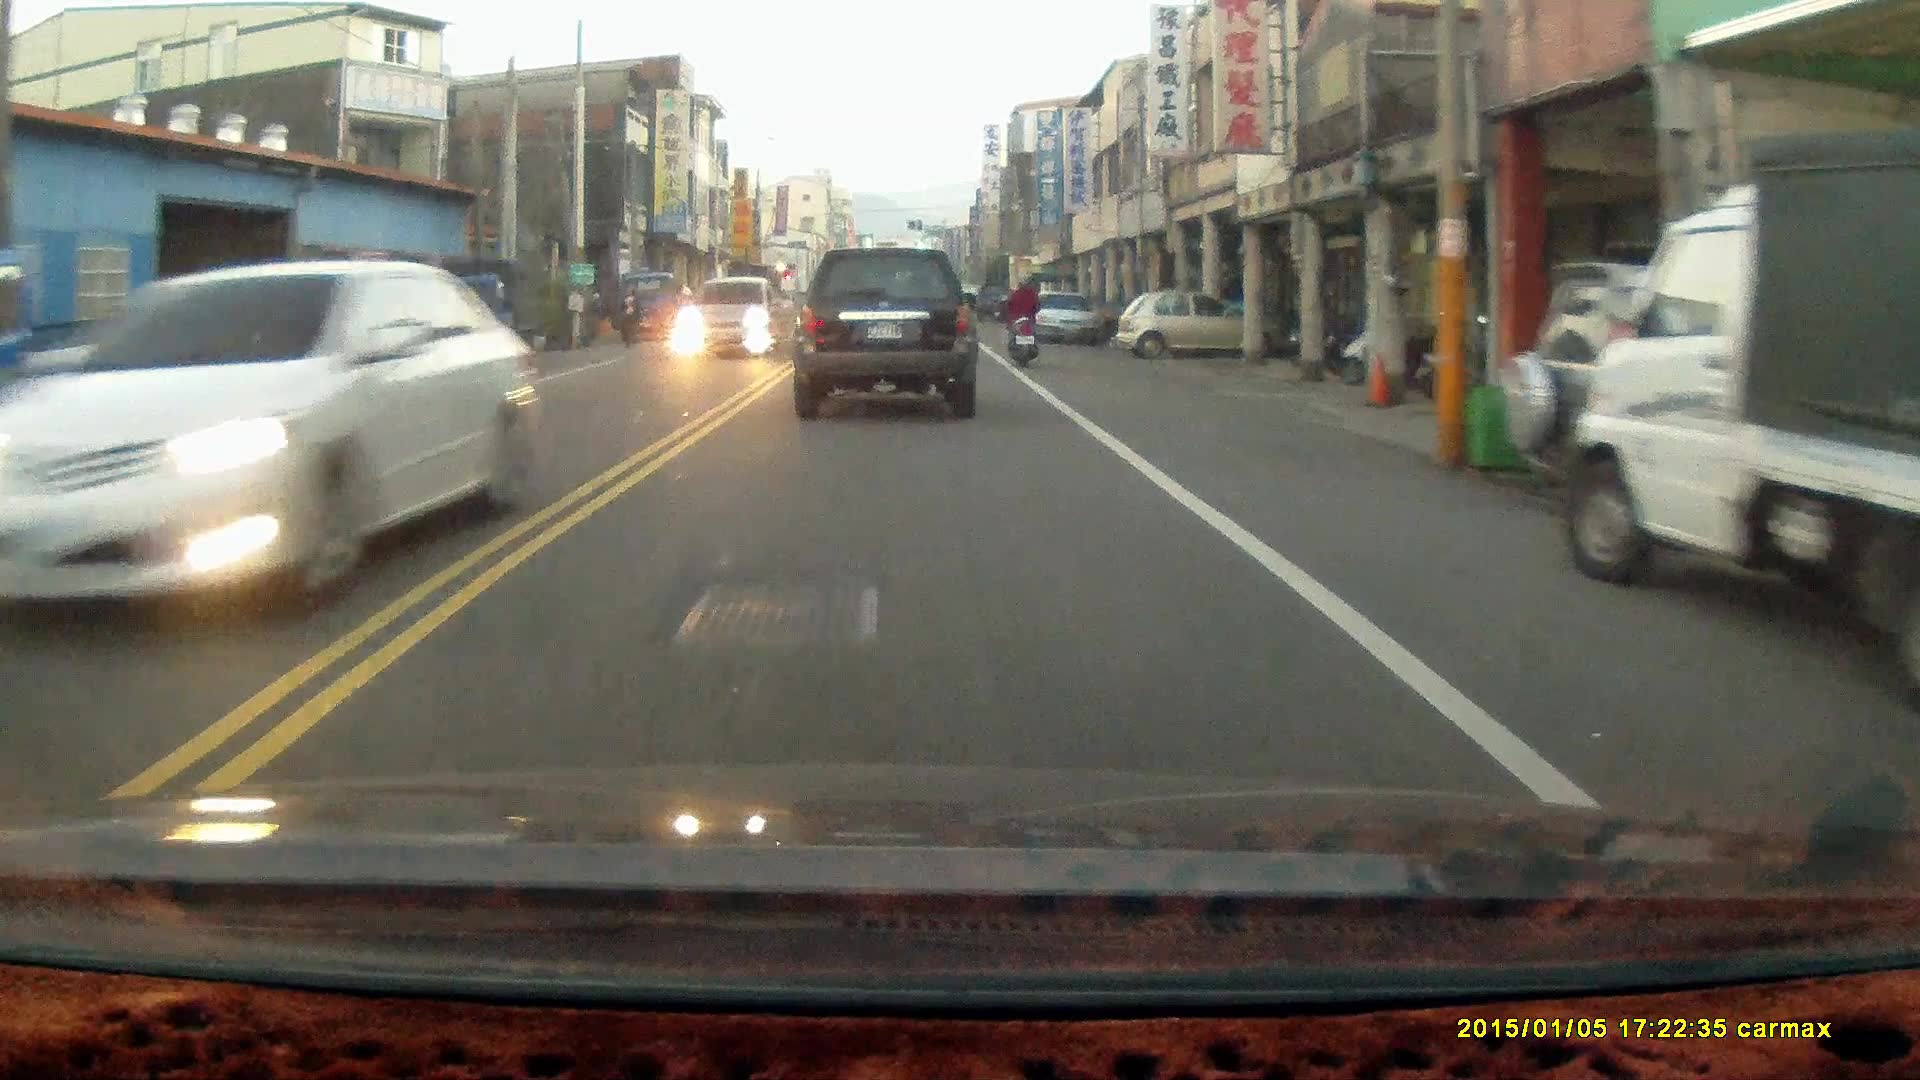pedestrian: (620, 286, 640, 347)
rider: (1005, 275, 1042, 370)
vehicle: (1563, 125, 1920, 688), (14, 264, 534, 645), (1500, 269, 1919, 519), (787, 253, 981, 428), (1115, 296, 1260, 367), (678, 281, 788, 365), (1030, 294, 1106, 347)
